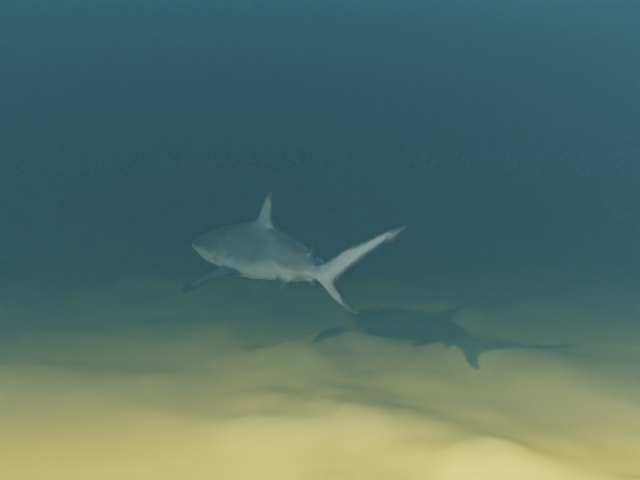Carribean Shark.001: (181, 191, 406, 314)
